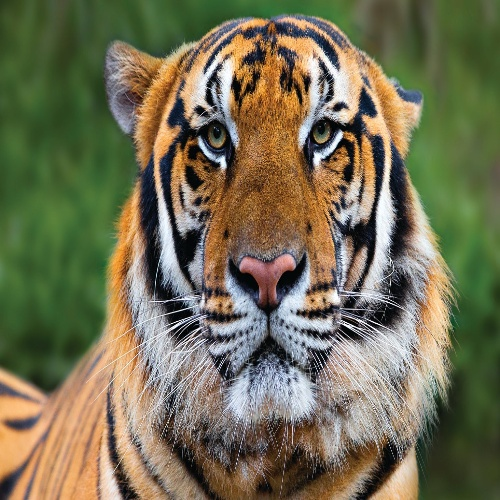tiger: (35, 1, 463, 498)
